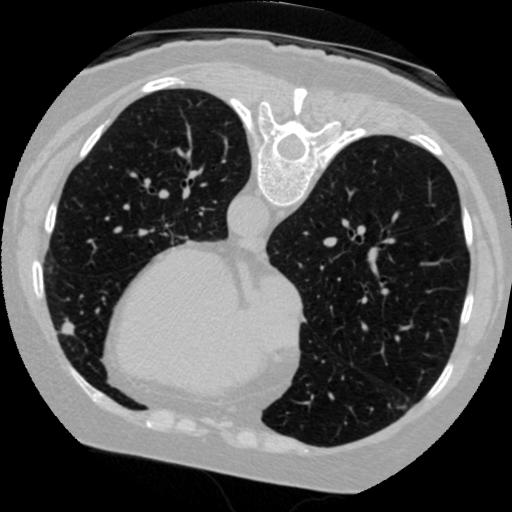nodule: (57, 318, 80, 341)
